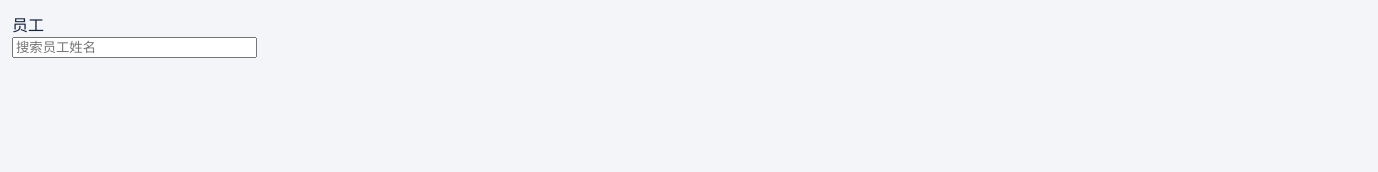
Scenario: AI 洞察工作台渲染 › 员工筛选组合框忽略过期请求结果，loading 时不保留旧 option 或失效 aria
The image size is (1378, 172).
Later steps or results of the test are not shown.
Focus the dropdown labelled "员工": (134, 48) [12, 37, 257, 58]
Wait 150 ms
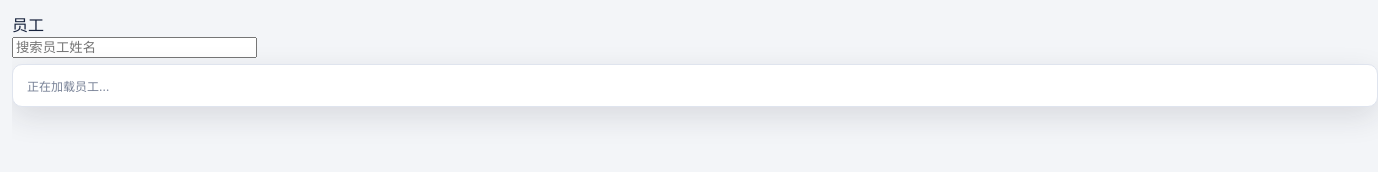
Expected: the message reads "正在加载员工…", [27, 79, 109, 94]
In the dropdown labelled "员工": (134, 48) [12, 37, 257, 58], type "李"
Wait 150 ms
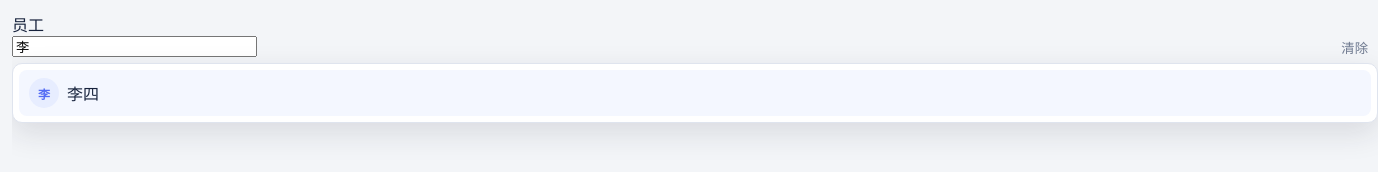
Expected: the dropdown labelled "员工" has attribute aria-activedescendant="ai-insight-employee-option-1002", [12, 36, 257, 57]
Click the button with aria-label "清除员工": (1355, 46) [1341, 37, 1368, 56]
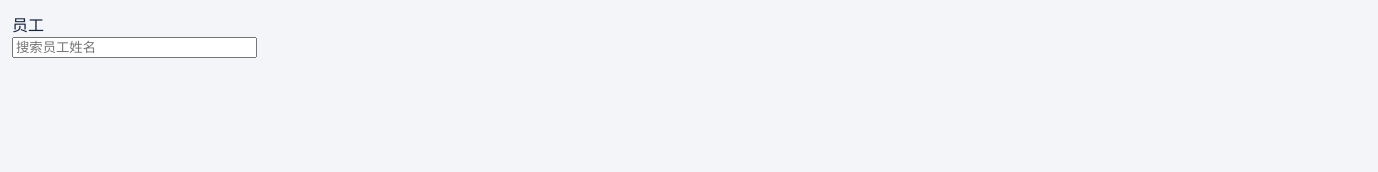
Expected: the option is gone
